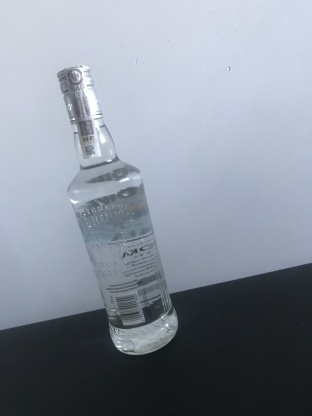nakretka: (55, 62, 104, 127)
